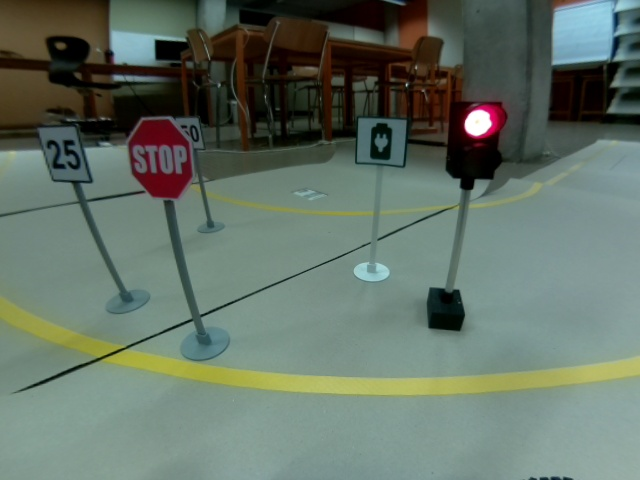battery: (354, 115, 409, 169)
speed25: (33, 124, 94, 184)
speed50: (173, 116, 207, 151)
stop: (125, 115, 198, 203)
traffic light: (445, 100, 510, 182)
